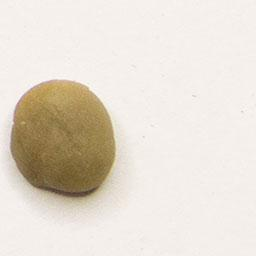premium: (8, 76, 119, 199)
